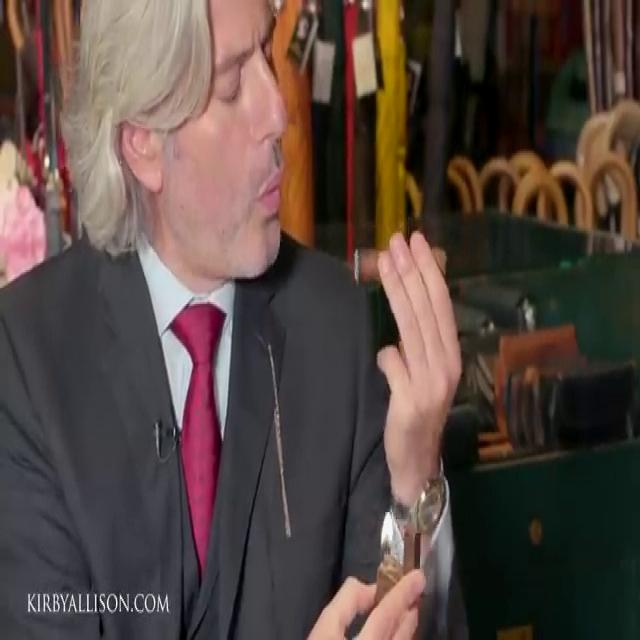Smooking: (348, 236, 466, 307)
